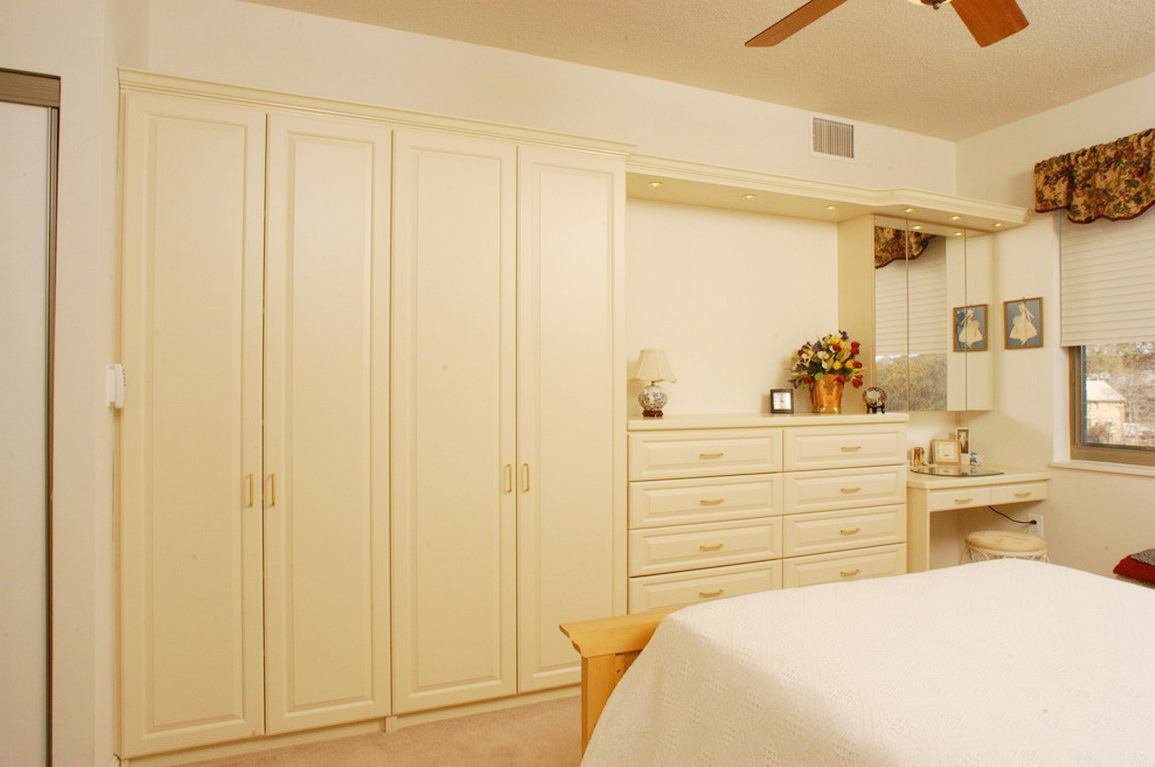床: (608, 558, 1155, 767)
灯: (645, 179, 669, 198), (738, 191, 759, 205)
